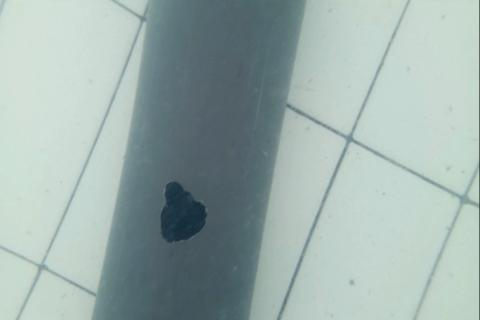kebocoran: (157, 178, 209, 244)
